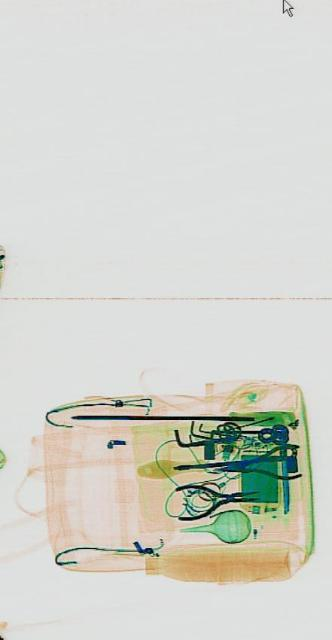Pliers: (171, 475, 258, 521), (211, 442, 300, 484)
